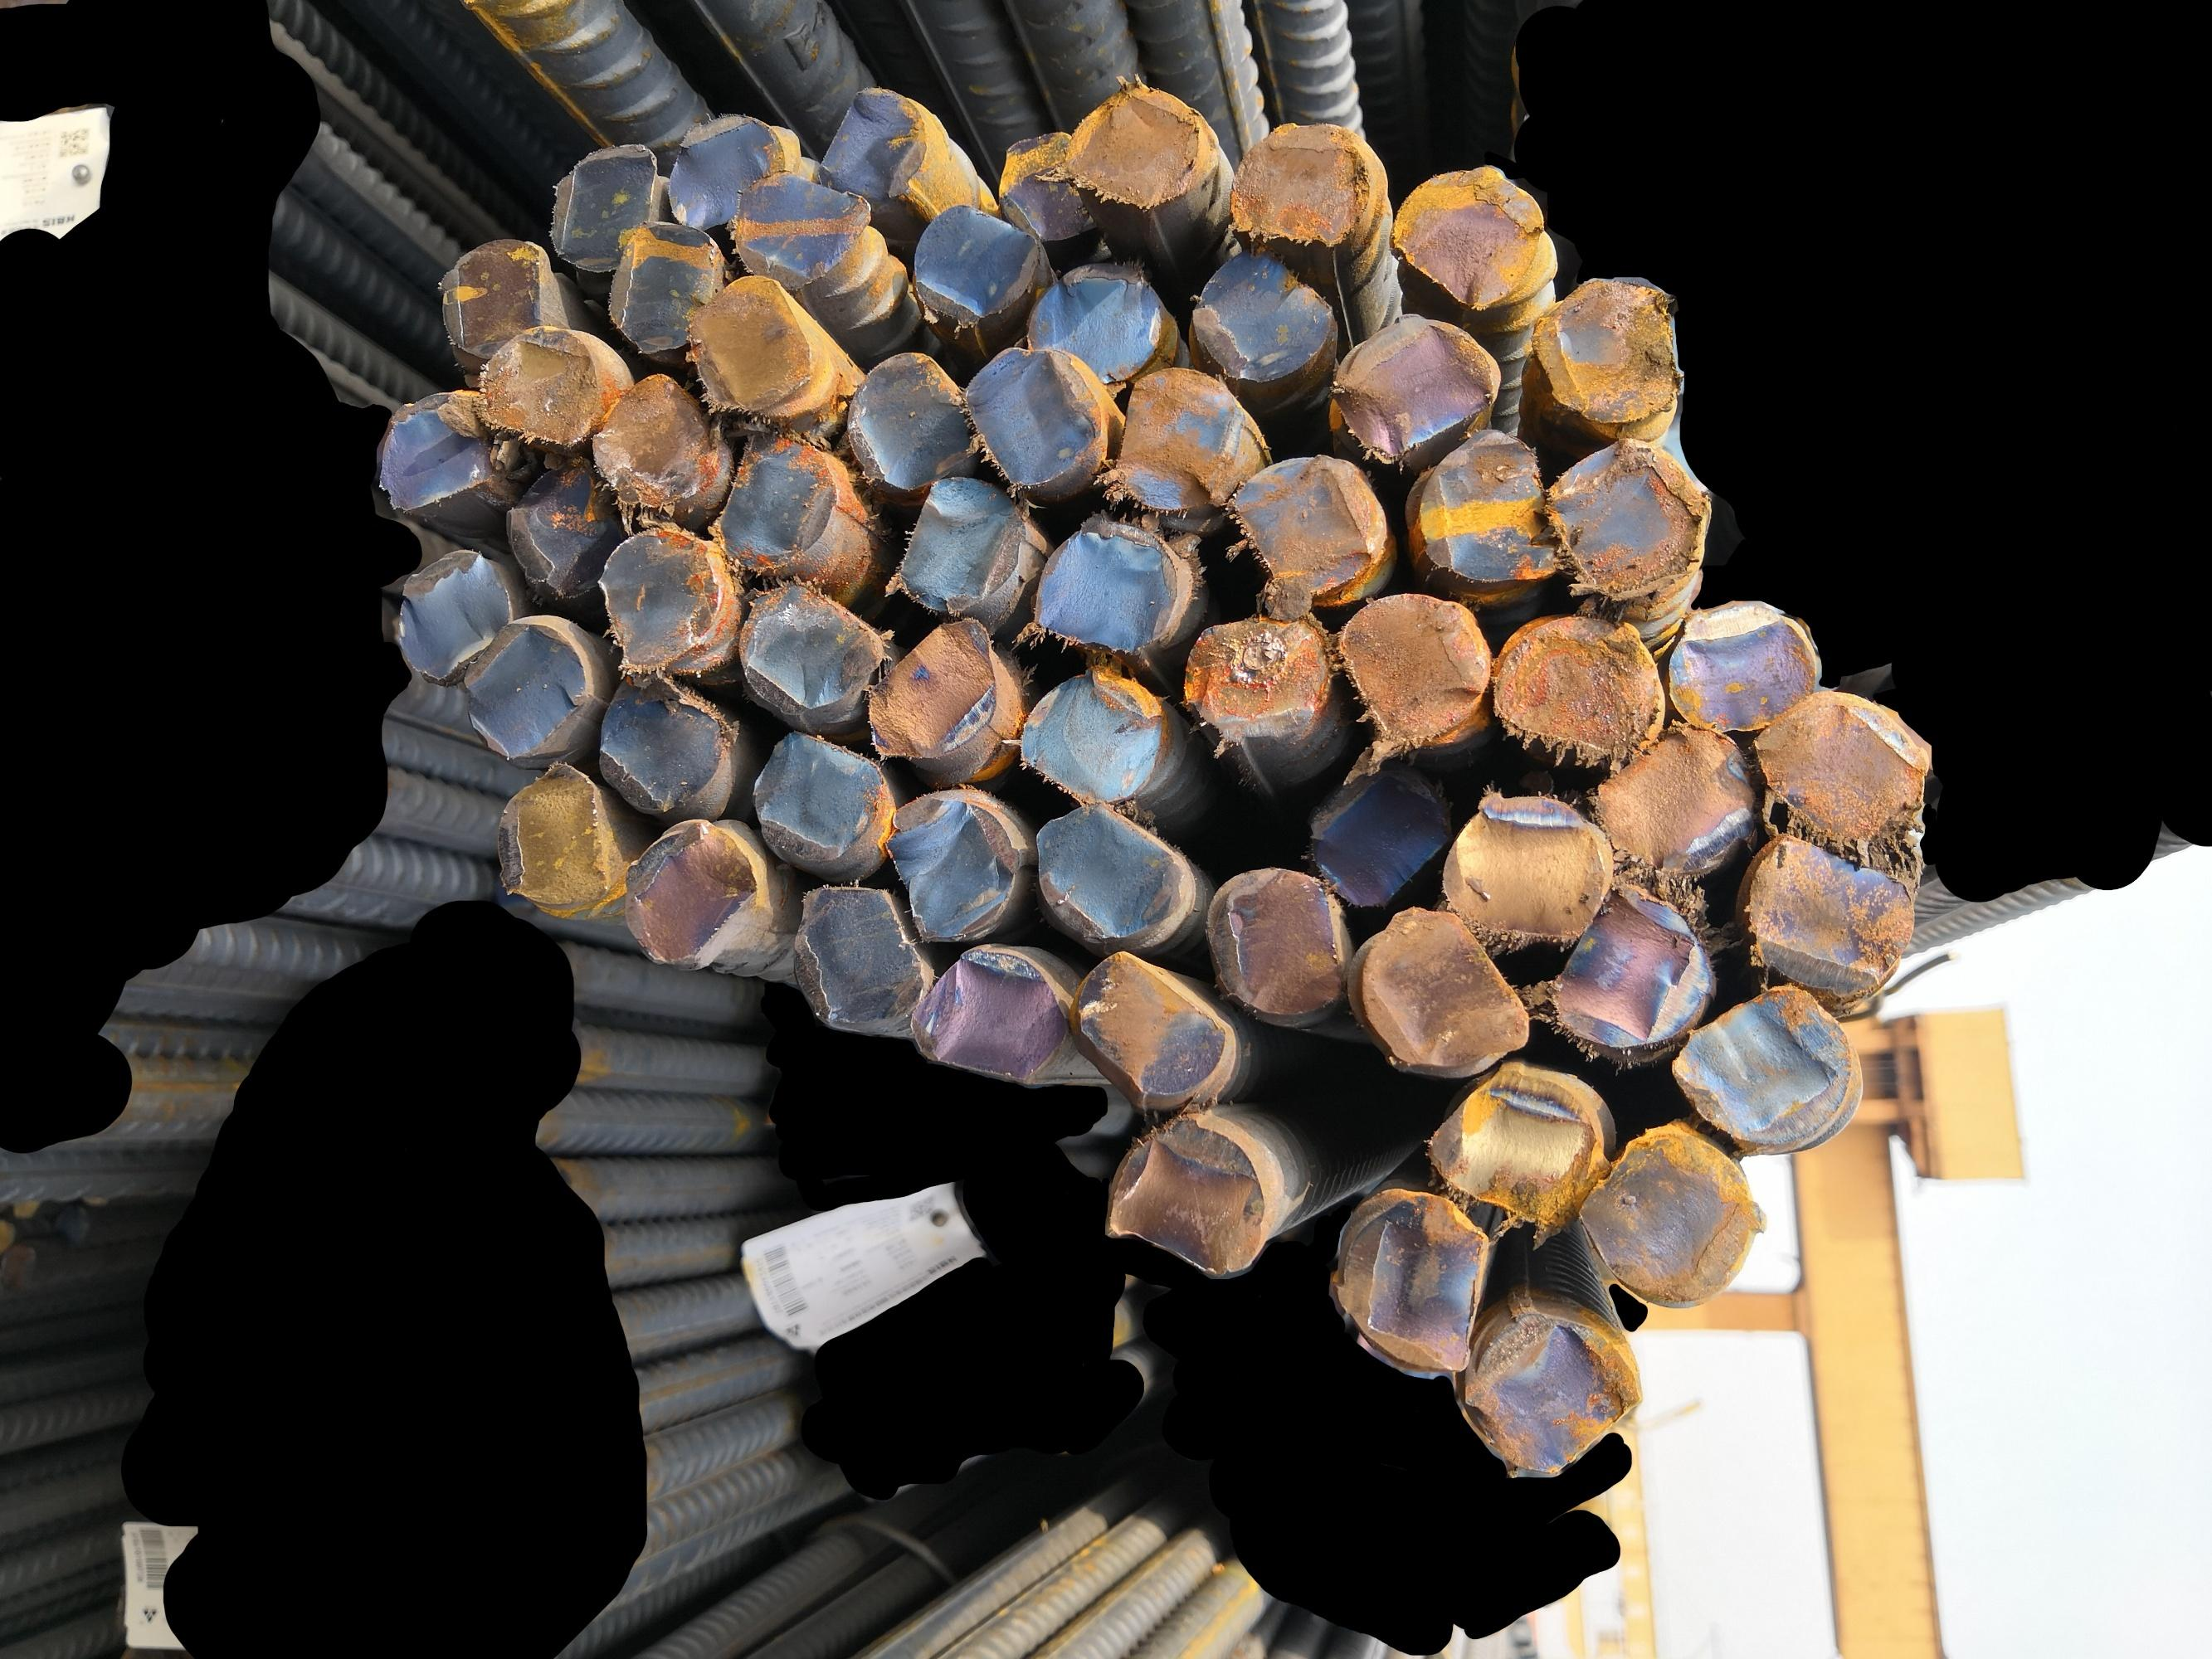bar: (1579, 1121, 1762, 1310), (1455, 1298, 1645, 1476), (1537, 880, 1715, 1058), (1666, 983, 1855, 1150), (1330, 1183, 1485, 1382), (1424, 1061, 1611, 1225), (1358, 904, 1532, 1079), (1750, 685, 1931, 850), (1741, 833, 1919, 999), (1098, 1107, 1265, 1281), (1543, 436, 1710, 606), (1489, 612, 1665, 769), (1438, 788, 1616, 943), (1332, 587, 1492, 758), (1325, 308, 1501, 464), (1593, 718, 1762, 877), (1224, 453, 1386, 610), (1067, 948, 1231, 1103), (1405, 422, 1557, 587), (1527, 272, 1680, 430), (1388, 160, 1546, 312), (1028, 800, 1189, 950), (1203, 864, 1349, 1028), (1306, 758, 1457, 915), (908, 943, 1070, 1089), (1666, 592, 1823, 737), (490, 756, 626, 922), (1028, 516, 1187, 657), (1014, 666, 1168, 810), (959, 343, 1107, 491), (455, 608, 598, 762), (882, 789, 1021, 946), (1185, 249, 1340, 389), (1180, 610, 1339, 746), (858, 615, 1002, 763), (573, 369, 723, 512), (736, 573, 887, 714), (1109, 364, 1248, 518), (593, 666, 736, 814), (591, 525, 732, 674), (791, 882, 931, 1033), (617, 819, 757, 967), (842, 345, 980, 493), (891, 471, 1028, 617), (366, 385, 514, 521), (683, 268, 816, 418), (708, 427, 838, 577), (1225, 115, 1375, 246), (746, 727, 885, 863), (390, 540, 518, 685), (1062, 82, 1206, 207), (1021, 258, 1163, 383), (729, 171, 875, 291), (910, 197, 1044, 328), (476, 324, 614, 450), (502, 450, 617, 594), (429, 232, 558, 359), (605, 216, 723, 354), (549, 139, 668, 274), (662, 108, 790, 232), (816, 77, 936, 202), (992, 124, 1093, 246)
